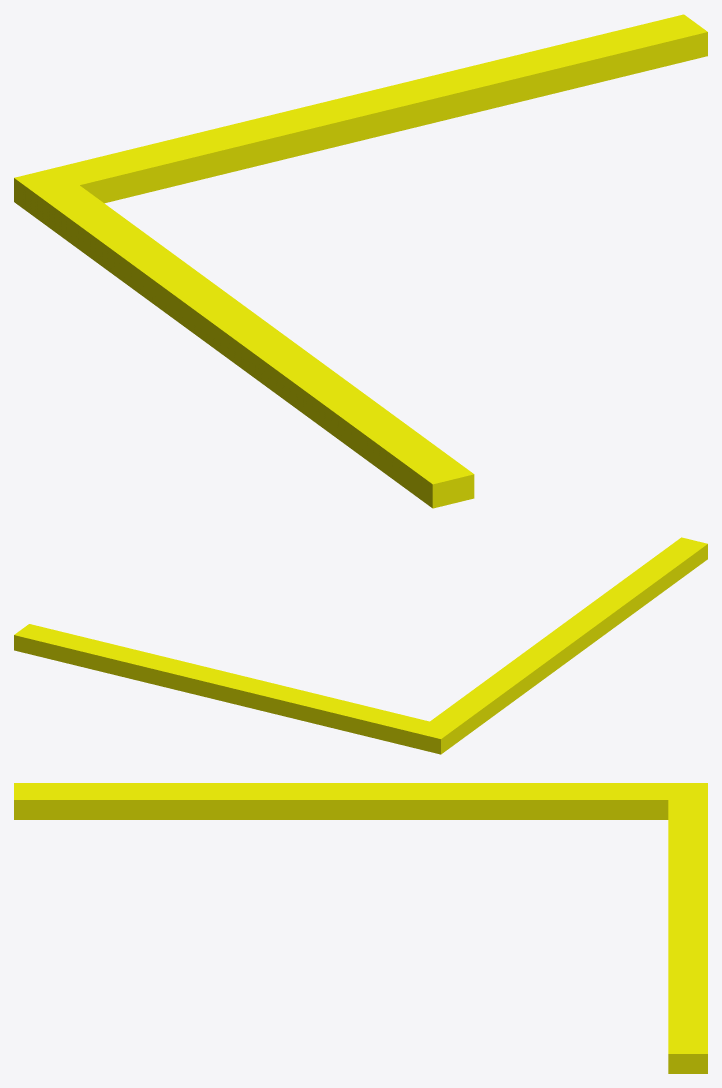
The model's file is 黄色导引线直角.FBX.
3 views of the same model, one above another, from view 1: azimuth 30°, elevation 25°; view 2: azimuth 150°, elevation 25°; view 3: azimuth 270°, elevation 25° (orthographic). The views are drawn at different scales.
Parts seen in each view (by area): view 1: *SOL508; view 2: *SOL508; view 3: *SOL508.
Boxes of the visible parts, <box> form: *SOL508: <box>14,14,707,508</box>; *SOL508: <box>14,537,707,754</box>; *SOL508: <box>14,783,707,1073</box>.
Size of the model in its own units: 5.71 by 0.1969 by 6.18.
